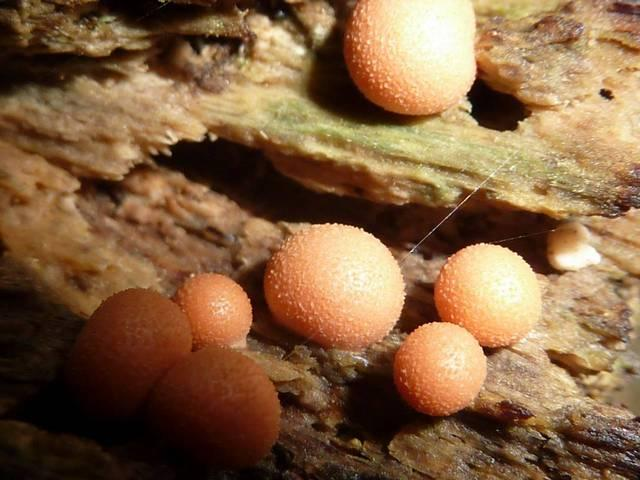Non-edible Mushroom: (262, 220, 407, 351), (147, 344, 282, 467), (67, 285, 193, 414), (342, 0, 478, 116), (433, 241, 542, 348), (392, 320, 488, 416), (175, 271, 253, 349)
